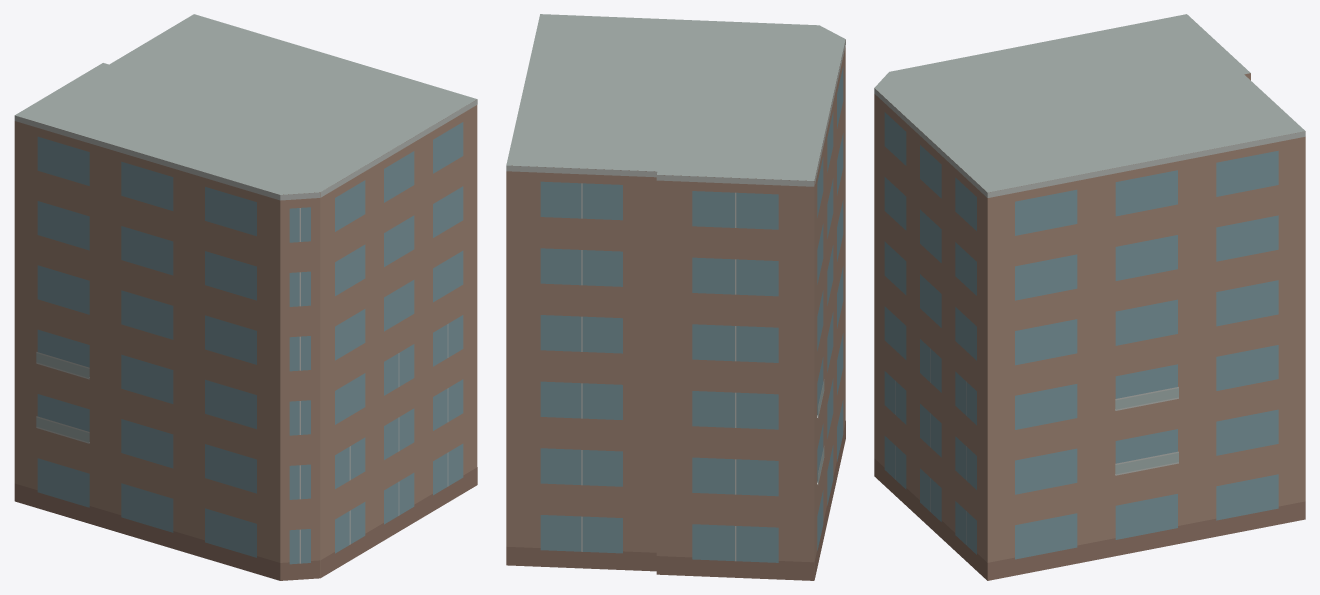
The model's file is survey-upis-32738397.glb.
3 views of the same model, side by side, from view 1: azimuth 30°, elevation 25°; view 2: azimuth 150°, elevation 25°; view 3: azimuth 270°, elevation 25° (orthographic). The views are drawn at different scales.
Parts seen in each view (by area): view 1: survey-upis-32738397.tmp; view 2: survey-upis-32738397.tmp; view 3: survey-upis-32738397.tmp.
Boxes of the visible parts, x1=… form: survey-upis-32738397.tmp: x1=14, y1=14, x2=477, y2=580; survey-upis-32738397.tmp: x1=506, y1=14, x2=845, y2=580; survey-upis-32738397.tmp: x1=874, y1=14, x2=1305, y2=580.
Bounding box in the file's own units: 16.78 × 17 × 17.12.
